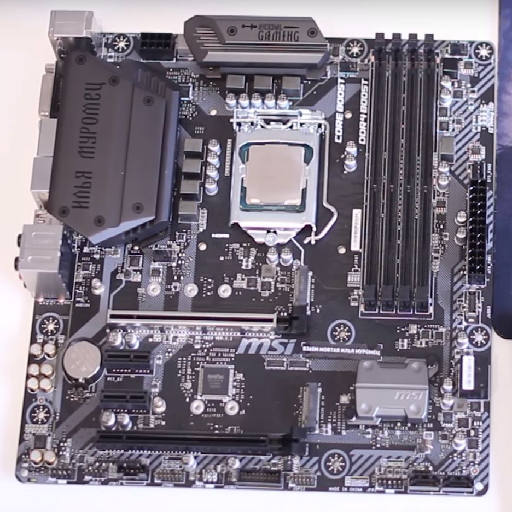CPU: (229, 124, 318, 244)
GPU: (94, 426, 309, 460), (103, 306, 310, 338)
MOTHERBOARD: (10, 23, 494, 499)
RAM: (361, 35, 438, 317)
SSD: (299, 382, 322, 426), (290, 265, 314, 303)
